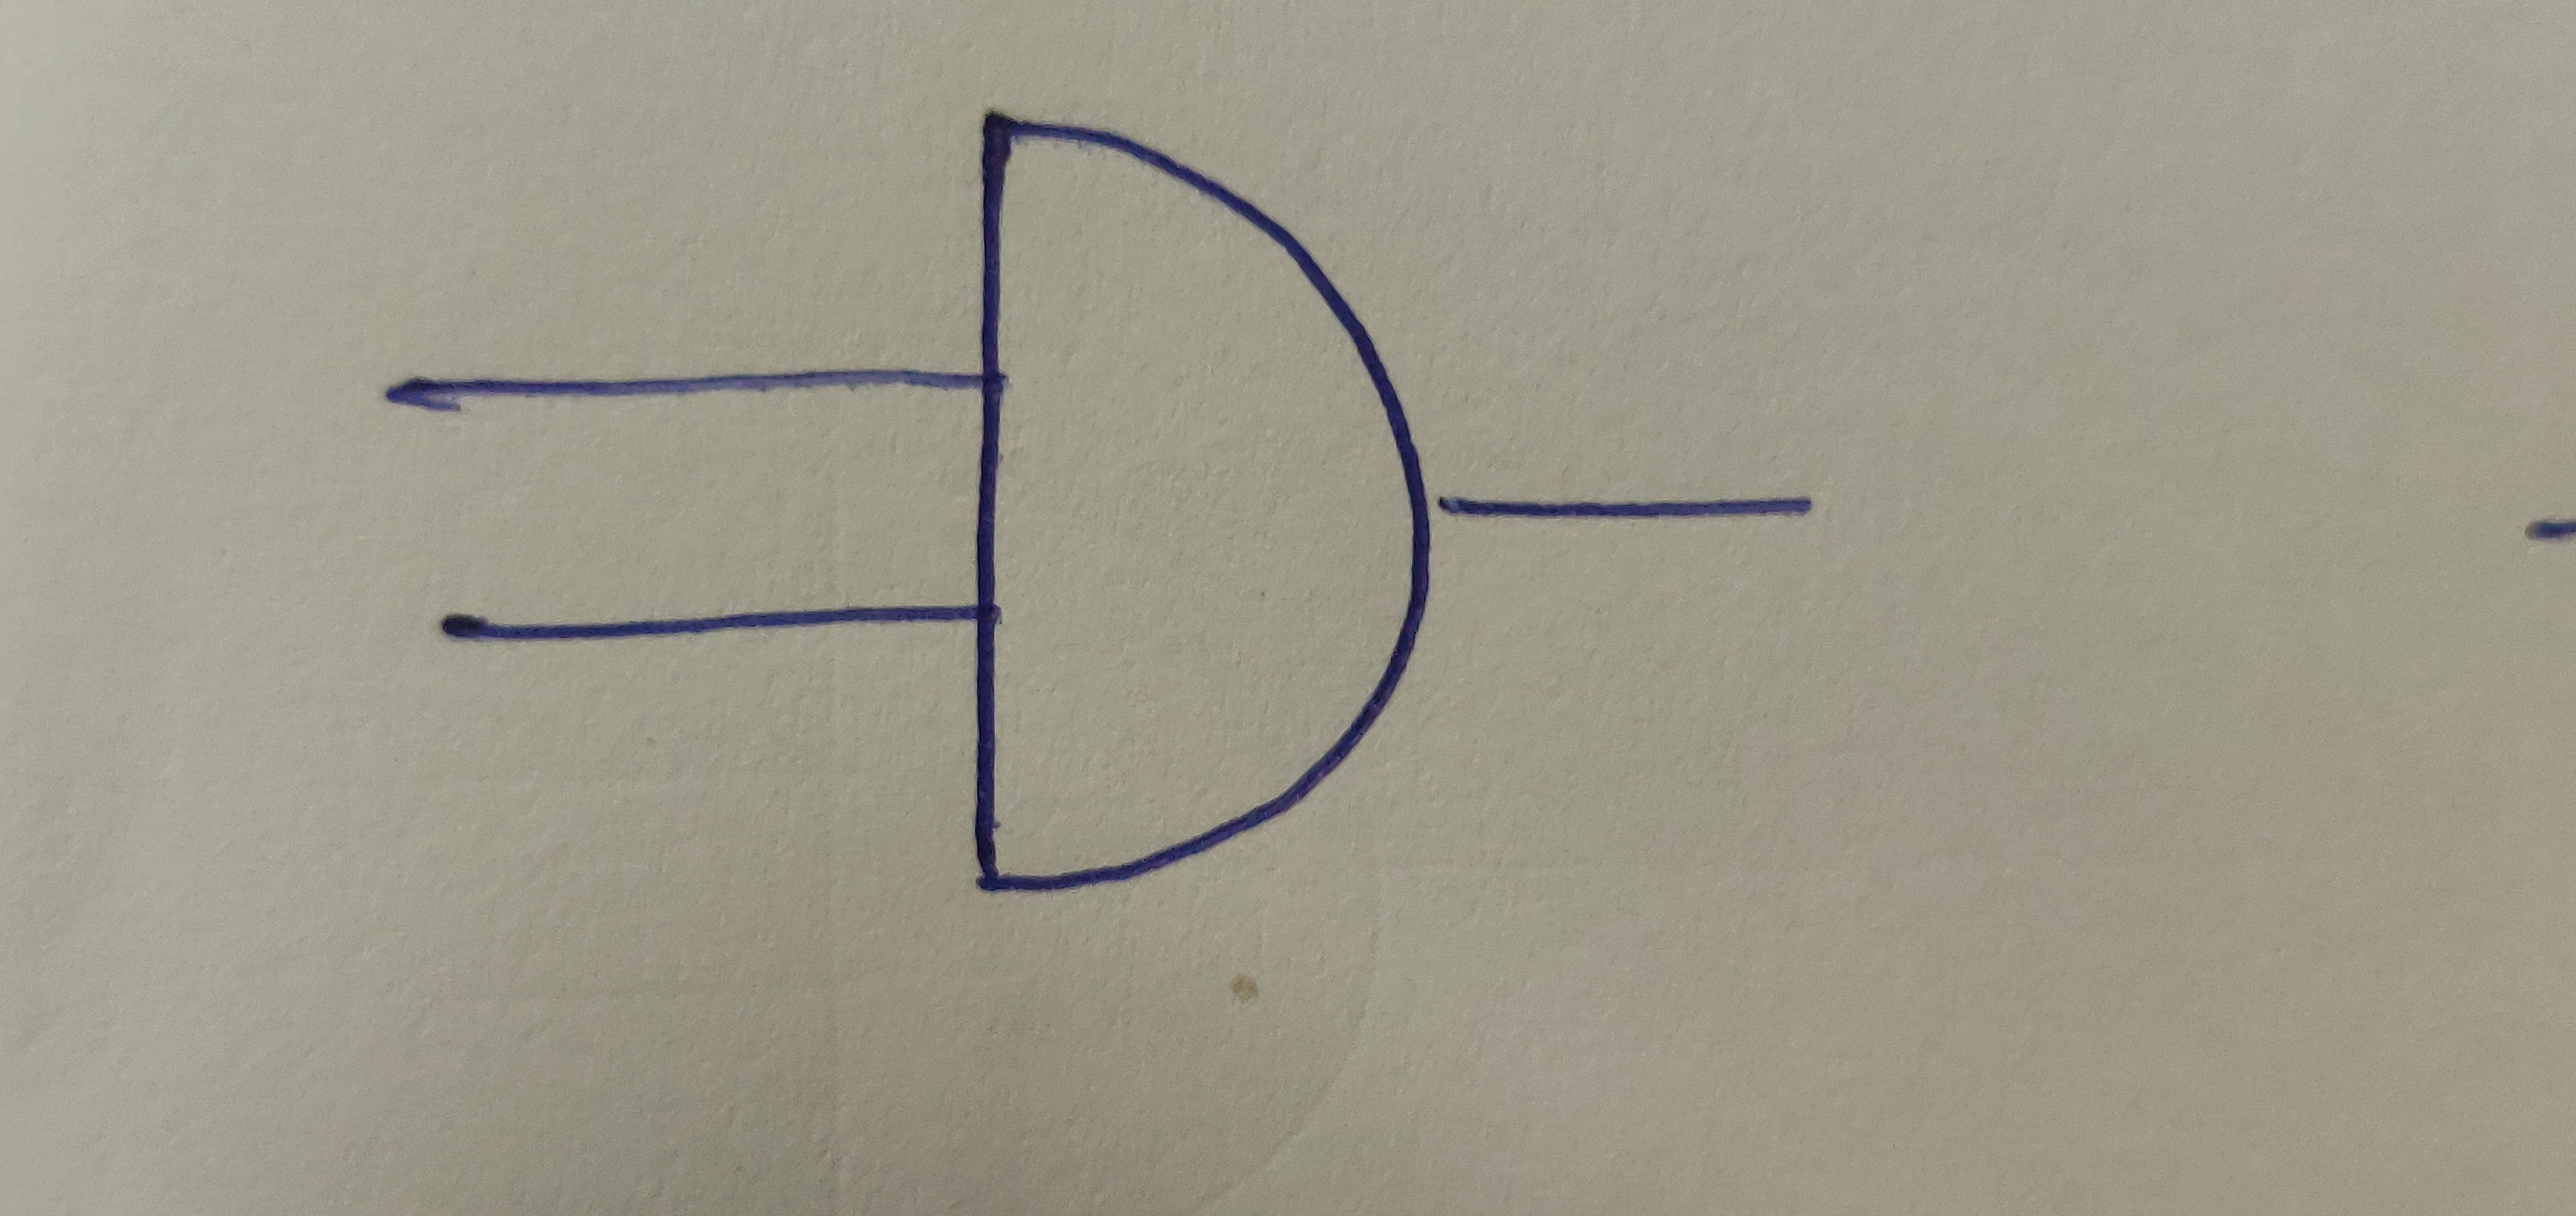and: (978, 107, 1436, 896)
